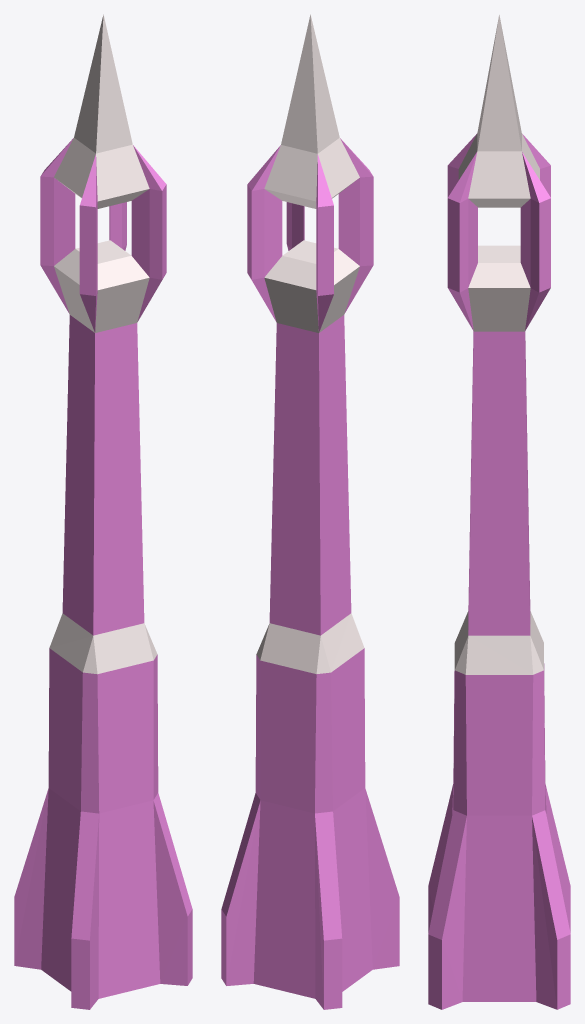
Rendered from DEd_lamp01.gltf.
The picture shows the model from 3 angles, left to right: view 1: azimuth 30°, elevation 25°; view 2: azimuth 150°, elevation 25°; view 3: azimuth 270°, elevation 25°; orthographic projection.
Parts seen in each view (by area): view 1: DEd_lamp01; view 2: DEd_lamp01; view 3: DEd_lamp01.
Part boxes in pixels (box(x1,y1,x2,y2)): DEd_lamp01: box(14, 14, 192, 1009); DEd_lamp01: box(221, 14, 399, 1009); DEd_lamp01: box(428, 15, 570, 1009).
Bounding box in the file's own units: 0.3039 × 2.3 × 0.307.
